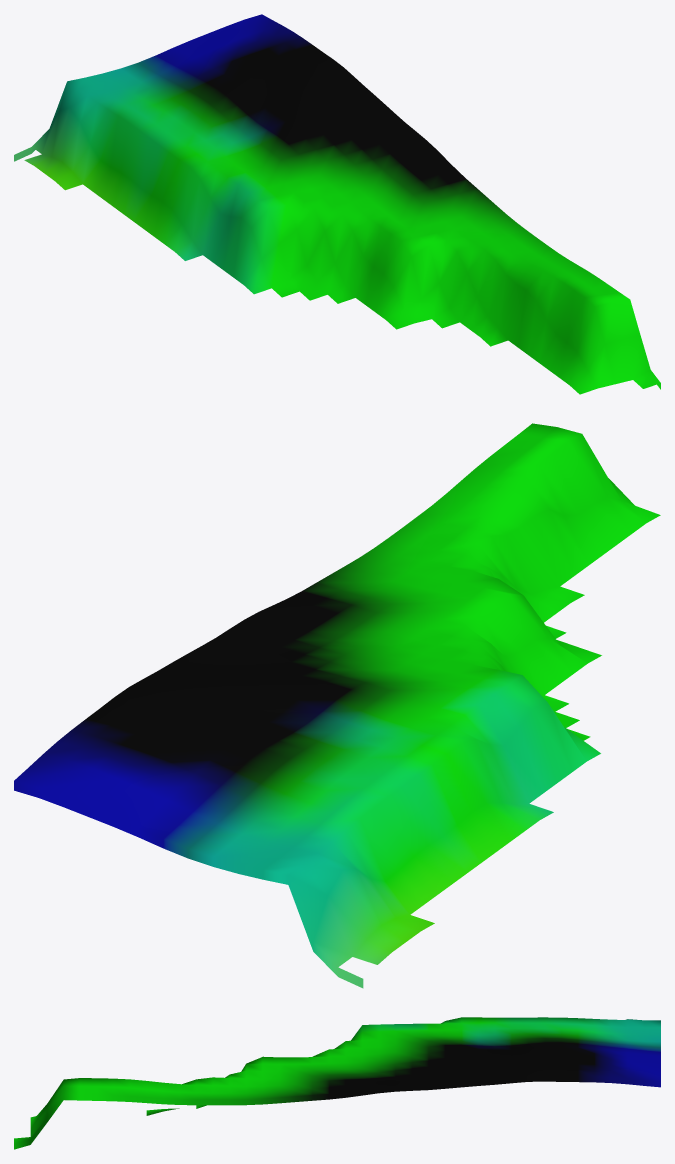
Rendered from coast_9_14.glb.
3 views of the same model, one above another, from view 1: azimuth 30°, elevation 25°; view 2: azimuth 150°, elevation 25°; view 3: azimuth 270°, elevation 25° (orthographic). The views are drawn at different scales.
Parts seen in each view (by area): view 1: terrain; view 2: terrain; view 3: terrain.
Boxes of the visible parts, left/top/right/bottom form: terrain: left=14, top=14, right=660, bottom=394; terrain: left=14, top=423, right=660, bottom=988; terrain: left=14, top=1017, right=660, bottom=1149.
Size of the model in its own units: 56 by 20.47 by 156.
